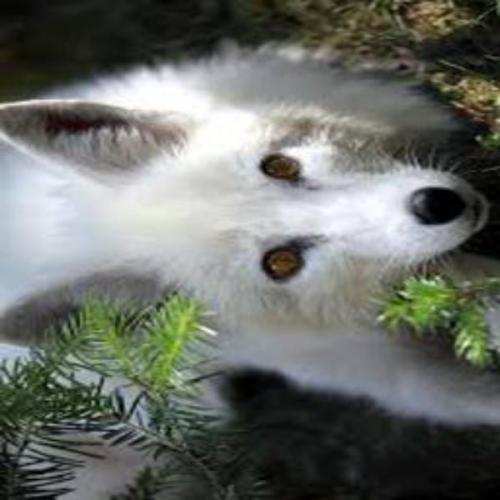arctic_fox-endangered: (0, 51, 500, 425)
